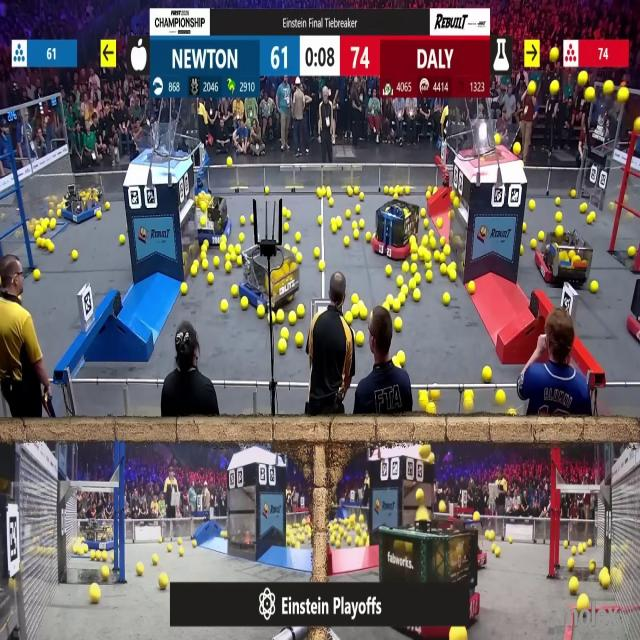ball_airborne: (620, 89, 630, 104), (603, 82, 613, 96), (418, 509, 428, 522), (551, 83, 560, 96), (586, 89, 595, 102), (420, 445, 429, 458), (528, 83, 536, 97), (514, 143, 522, 156), (578, 72, 586, 85), (551, 50, 559, 63), (417, 489, 424, 503), (440, 501, 447, 512), (634, 118, 640, 130), (494, 135, 500, 146), (428, 454, 433, 463)
ball_ground: (91, 586, 101, 604), (600, 570, 610, 587), (569, 579, 578, 596), (160, 573, 170, 588), (577, 595, 587, 610), (496, 390, 505, 404), (278, 340, 287, 354), (484, 365, 492, 380), (276, 311, 285, 324), (256, 306, 264, 320), (294, 334, 302, 348), (356, 333, 363, 348), (394, 318, 402, 331), (420, 394, 428, 407), (429, 390, 438, 401), (397, 352, 404, 366), (444, 292, 452, 304), (241, 296, 249, 308), (296, 306, 304, 318), (288, 313, 296, 325), (628, 246, 636, 258), (346, 312, 354, 324), (427, 404, 435, 416), (556, 224, 564, 236), (102, 566, 109, 579), (232, 285, 240, 296), (591, 281, 598, 293), (359, 307, 366, 319), (220, 301, 227, 313), (414, 290, 421, 302), (428, 239, 436, 249), (424, 252, 432, 262), (34, 270, 41, 281), (180, 283, 187, 294), (236, 254, 243, 265), (386, 266, 392, 278), (138, 562, 144, 574), (568, 558, 574, 570), (468, 282, 474, 294), (36, 239, 44, 248), (426, 272, 433, 282), (556, 212, 563, 222), (450, 272, 457, 282), (203, 262, 210, 272), (402, 264, 409, 274), (441, 266, 448, 276), (364, 233, 371, 243), (46, 243, 53, 253), (433, 251, 440, 261), (318, 262, 324, 273), (208, 274, 214, 285), (337, 217, 343, 228), (352, 306, 358, 317), (506, 410, 514, 418), (393, 303, 400, 312), (412, 253, 419, 262), (435, 218, 442, 227), (220, 244, 227, 253), (316, 188, 323, 197), (399, 285, 406, 294), (419, 246, 426, 255), (314, 248, 320, 258), (538, 232, 544, 242), (225, 264, 231, 274), (352, 293, 358, 303), (294, 233, 300, 243), (530, 201, 536, 211), (72, 250, 78, 260), (236, 244, 242, 254), (396, 277, 402, 287), (531, 240, 537, 250), (282, 328, 288, 338), (579, 204, 585, 214), (181, 548, 187, 558), (588, 214, 594, 224), (190, 268, 196, 278), (415, 274, 421, 284), (445, 246, 451, 256), (410, 278, 416, 288), (102, 552, 108, 562), (282, 208, 288, 218), (226, 158, 232, 168), (448, 264, 454, 274), (608, 202, 614, 212), (422, 237, 428, 247), (451, 200, 457, 210), (589, 562, 595, 572), (490, 530, 496, 540), (49, 218, 55, 228), (316, 216, 323, 224), (412, 244, 419, 252), (412, 265, 418, 274), (387, 294, 393, 303), (556, 198, 562, 207), (346, 210, 352, 219), (399, 294, 405, 303), (97, 211, 103, 220), (384, 303, 390, 312), (358, 219, 364, 228), (226, 244, 232, 253), (348, 187, 354, 196), (347, 536, 353, 545), (472, 513, 478, 522), (345, 237, 350, 247), (152, 555, 157, 565), (119, 236, 124, 246), (421, 208, 426, 218), (204, 241, 209, 251), (495, 548, 500, 558), (570, 189, 576, 197), (441, 254, 447, 262), (224, 253, 230, 261), (291, 246, 297, 254), (426, 264, 432, 272), (330, 216, 336, 224), (577, 544, 583, 552), (240, 234, 245, 243), (284, 222, 289, 231), (105, 202, 110, 211), (331, 223, 336, 232), (571, 545, 576, 554), (92, 552, 97, 561), (326, 189, 331, 198), (97, 552, 102, 561), (284, 244, 290, 251), (354, 232, 359, 240), (241, 216, 246, 224), (424, 218, 428, 228), (426, 190, 431, 198), (266, 186, 271, 194), (492, 543, 497, 551), (48, 210, 53, 218), (337, 540, 342, 548), (523, 222, 527, 231), (296, 254, 300, 263), (520, 246, 524, 255), (442, 237, 446, 246), (220, 532, 226, 538), (356, 206, 361, 213), (328, 200, 333, 207), (353, 221, 358, 228), (192, 259, 197, 266), (359, 191, 363, 199), (214, 259, 218, 267), (250, 215, 254, 223), (589, 538, 593, 546), (507, 536, 512, 542), (83, 548, 88, 554), (160, 536, 165, 542), (168, 543, 172, 550), (564, 540, 568, 547), (58, 210, 62, 217), (384, 186, 388, 193), (192, 540, 196, 546), (178, 538, 182, 544)
goal: (466, 124, 524, 161), (129, 130, 188, 160)
robot_blue: (242, 248, 302, 314), (195, 193, 231, 246), (62, 182, 101, 224), (84, 523, 114, 550)
robot_red: (382, 520, 484, 630), (536, 230, 592, 286), (374, 197, 419, 261), (628, 273, 640, 342)
